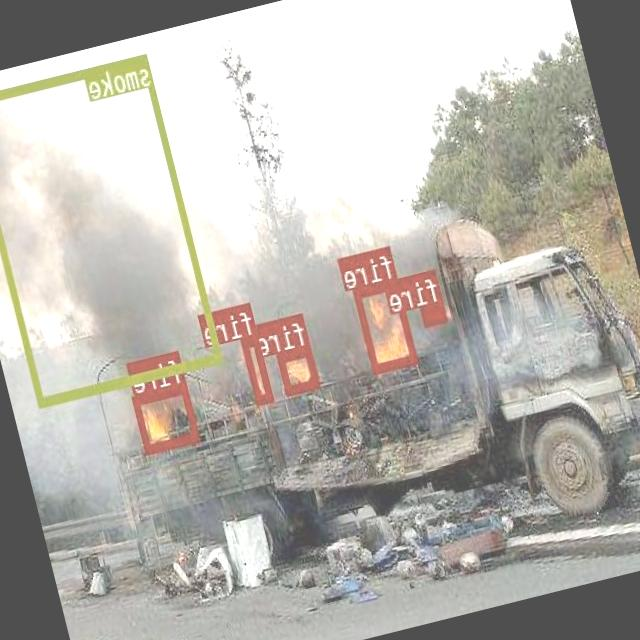fire: (354, 276, 419, 372), (132, 380, 202, 452), (241, 333, 275, 402), (278, 344, 320, 393), (421, 300, 447, 323)
smoke: (0, 51, 223, 404)
